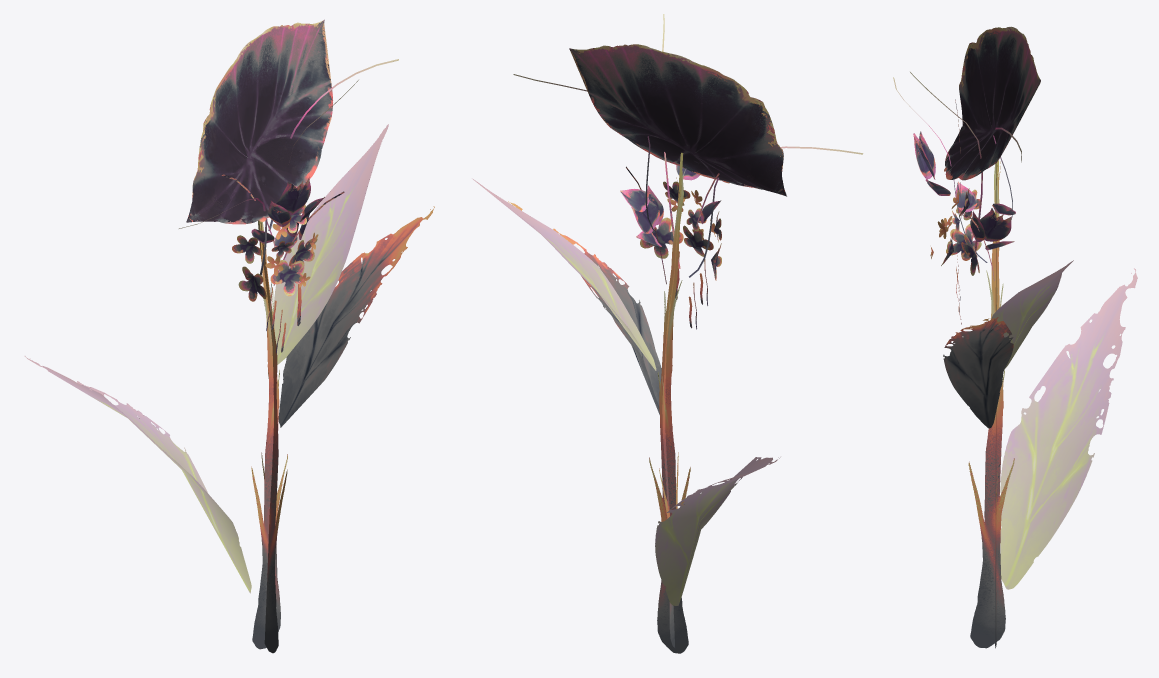
3 views of the same model, side by side, from view 1: azimuth 30°, elevation 25°; view 2: azimuth 150°, elevation 25°; view 3: azimuth 270°, elevation 25° (orthographic). The views are drawn at different scales.
Visible parts, largest first — view 1: C01_3; view 2: C01_3; view 3: C01_3.
Part boxes in pixels (x1,y1,x2,y2): C01_3: (24,19,434,653); C01_3: (472,14,863,653); C01_3: (893,26,1137,648).
Size of the model in its own units: 648 by 1070 by 388.
